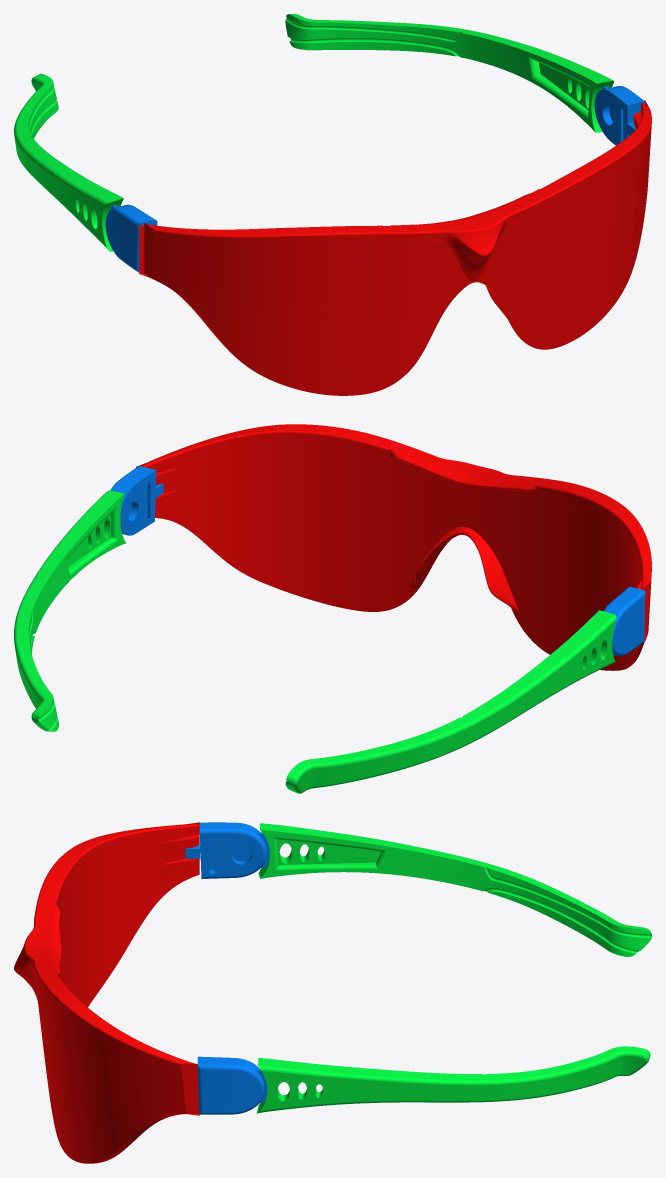
The model's file is morri.glb.
The picture shows the model from 3 angles, top to bottom: view 1: azimuth 30°, elevation 25°; view 2: azimuth 150°, elevation 25°; view 3: azimuth 270°, elevation 25°; orthographic projection.
Size of the model in its own units: 0.1467 by 0.0476 by 0.1608.
